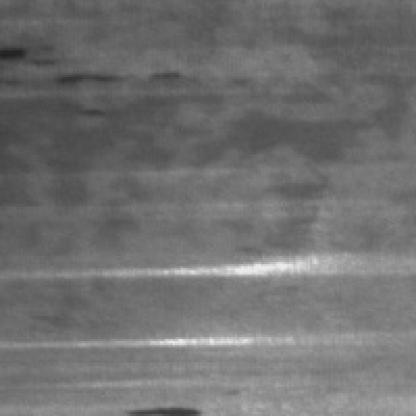inclusion: (0, 50, 116, 92)
scratches: (48, 254, 398, 289), (19, 328, 328, 360)
